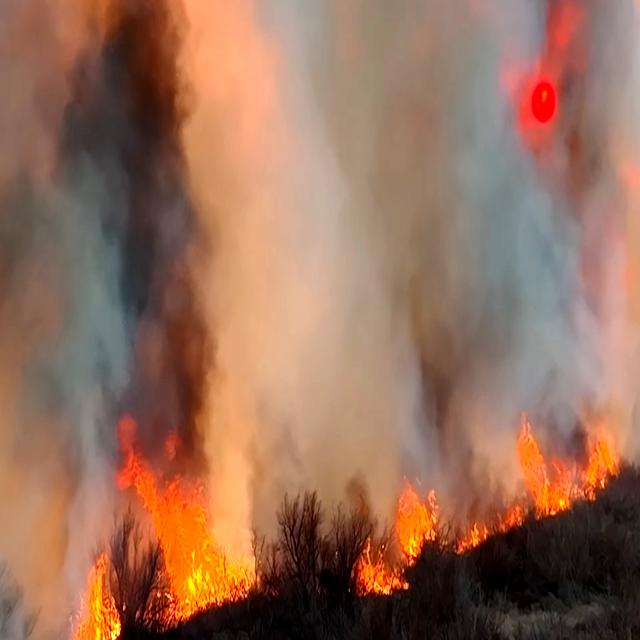fire: (71, 415, 249, 640), (504, 392, 640, 522), (357, 478, 470, 602)
smoke: (56, 0, 251, 405), (360, 0, 487, 394)
